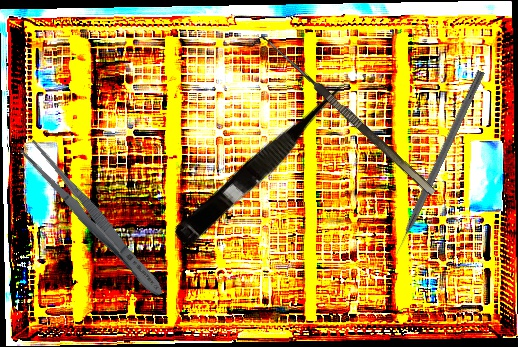Dressing Forceps: (16, 136, 171, 303)
Hook Surgical: (250, 30, 437, 206), (390, 68, 485, 258)
Micro Scissor: (170, 72, 362, 254)
